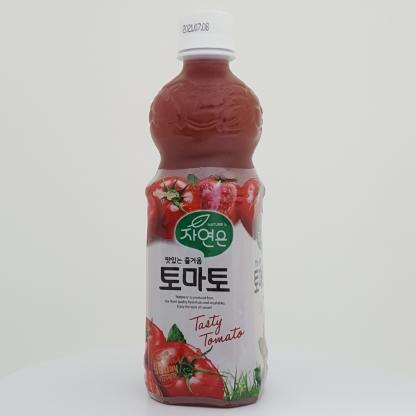--------500ML: (144, 9, 269, 409)
